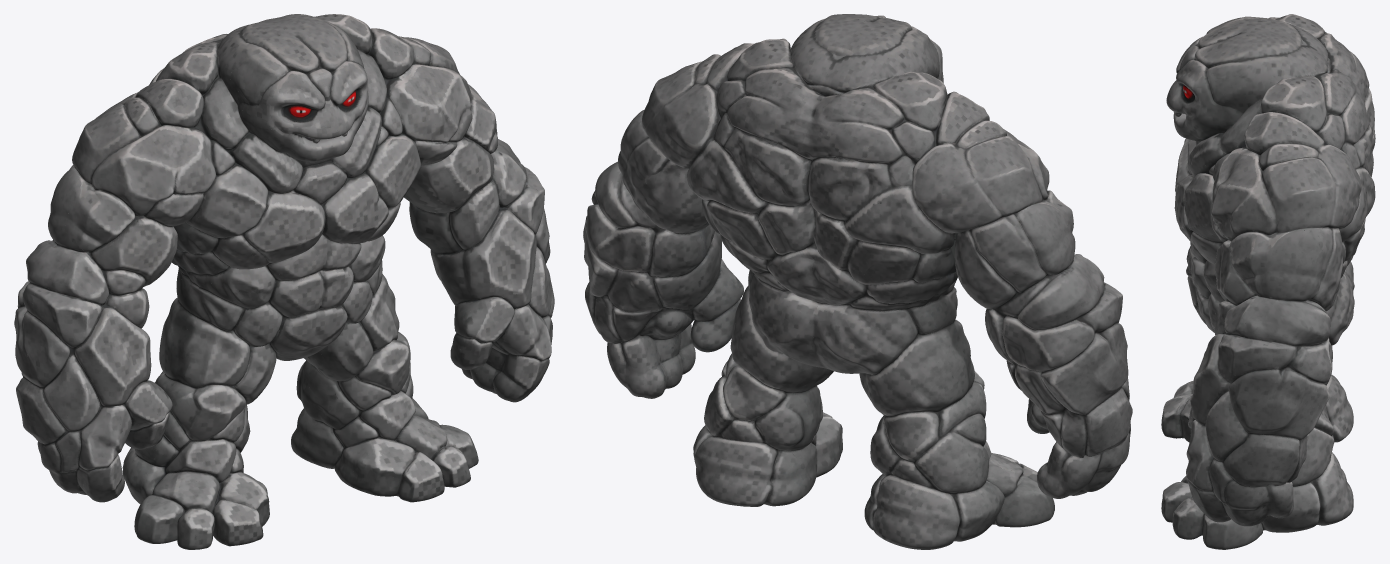
Rendered from golem.glb.
3 views of the same model, side by side, from view 1: azimuth 30°, elevation 25°; view 2: azimuth 150°, elevation 25°; view 3: azimuth 270°, elevation 25° (orthographic). The views are drawn at different scales.
Parts seen in each view (by area): view 1: Mesh_0.001; view 2: Mesh_0.001; view 3: Mesh_0.001.
Boxes of the visible parts, x1,y1,x2,y2 form: Mesh_0.001: (14, 14, 554, 549); Mesh_0.001: (583, 14, 1132, 549); Mesh_0.001: (1161, 14, 1375, 549).
Size of the model in its own units: 1.9 by 1.61 by 0.705.
Materials: 1 (1 with a texture image).
